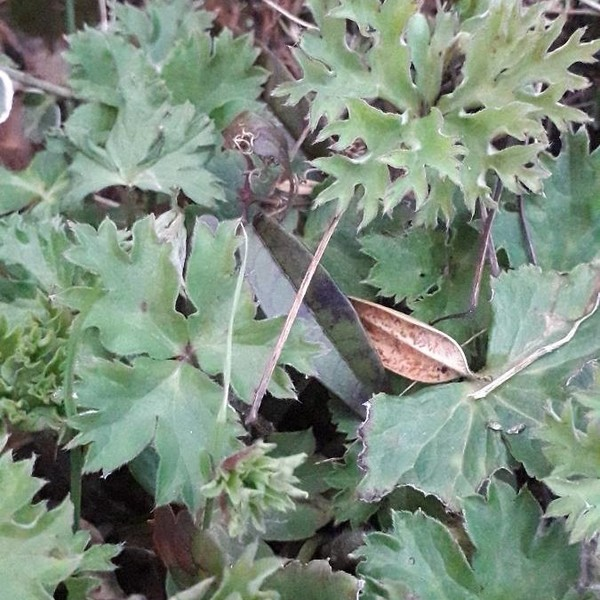obstacle: (30, 37, 564, 560)
